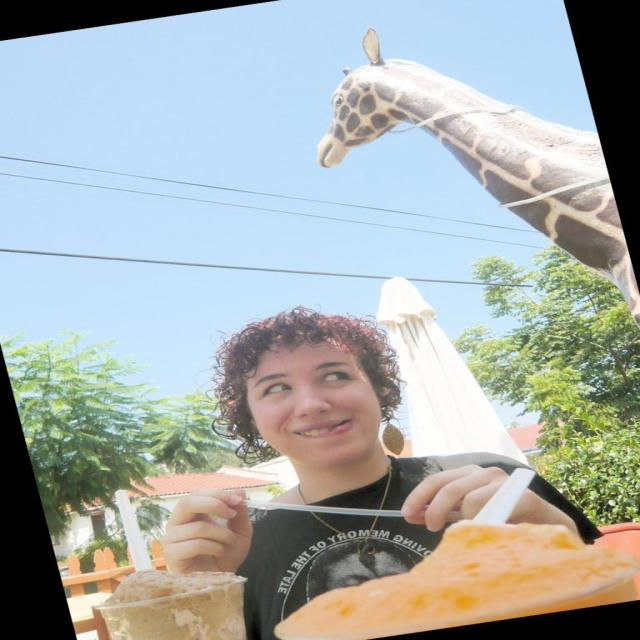Giraffe: (301, 15, 640, 275)
